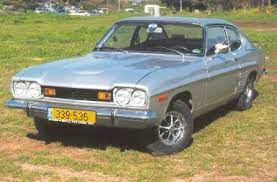licence: (47, 107, 96, 126)
